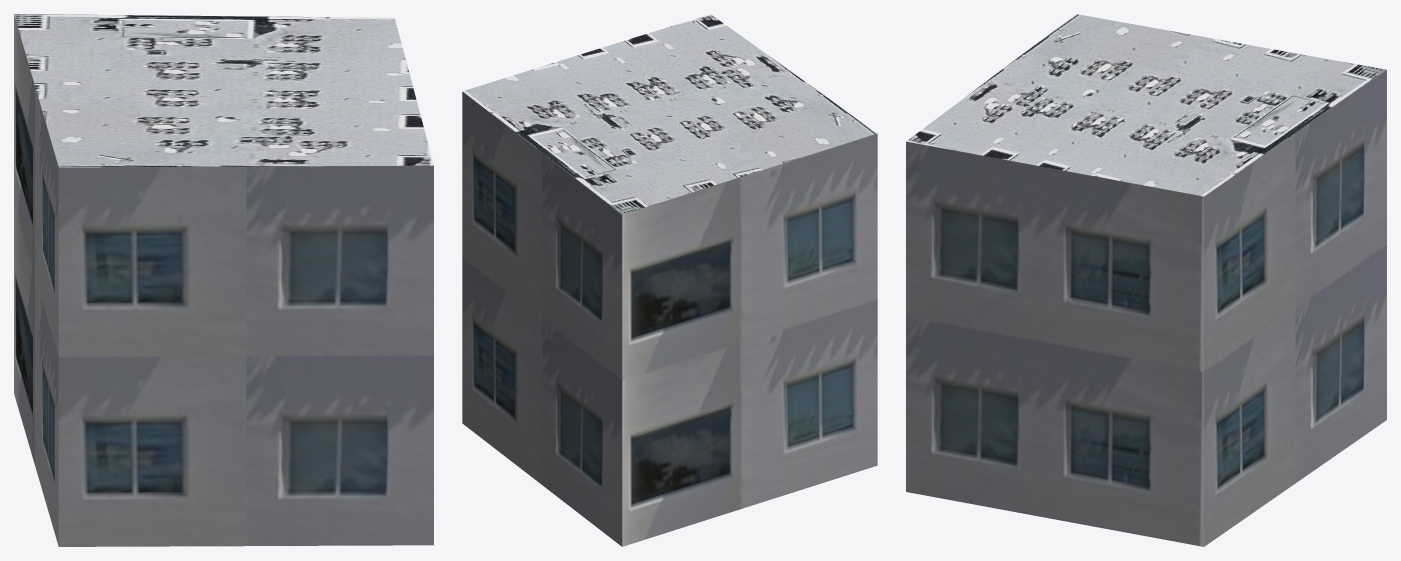
The model's file is ResTex__591.fbx.
3 views of the same model, side by side, from view 1: azimuth 30°, elevation 25°; view 2: azimuth 150°, elevation 25°; view 3: azimuth 270°, elevation 25° (orthographic). The views are drawn at different scales.
Parts seen in each view (by area): view 1: CityEngineMaterial_10_m, CityEngineMaterial_m; view 2: CityEngineMaterial_10_m, CityEngineMaterial_m; view 3: CityEngineMaterial_10_m, CityEngineMaterial_m.
Part boxes in pixels (x1,y1,x2,y2): CityEngineMaterial_10_m: [14, 14, 433, 546]; CityEngineMaterial_m: [14, 14, 433, 167]; CityEngineMaterial_10_m: [462, 91, 877, 546]; CityEngineMaterial_m: [462, 14, 877, 214]; CityEngineMaterial_10_m: [906, 70, 1386, 546]; CityEngineMaterial_m: [906, 14, 1386, 196].
Size of the model in its own units: 6.7 by 6 by 7.46.
Materials: 2 (2 with a texture image).
